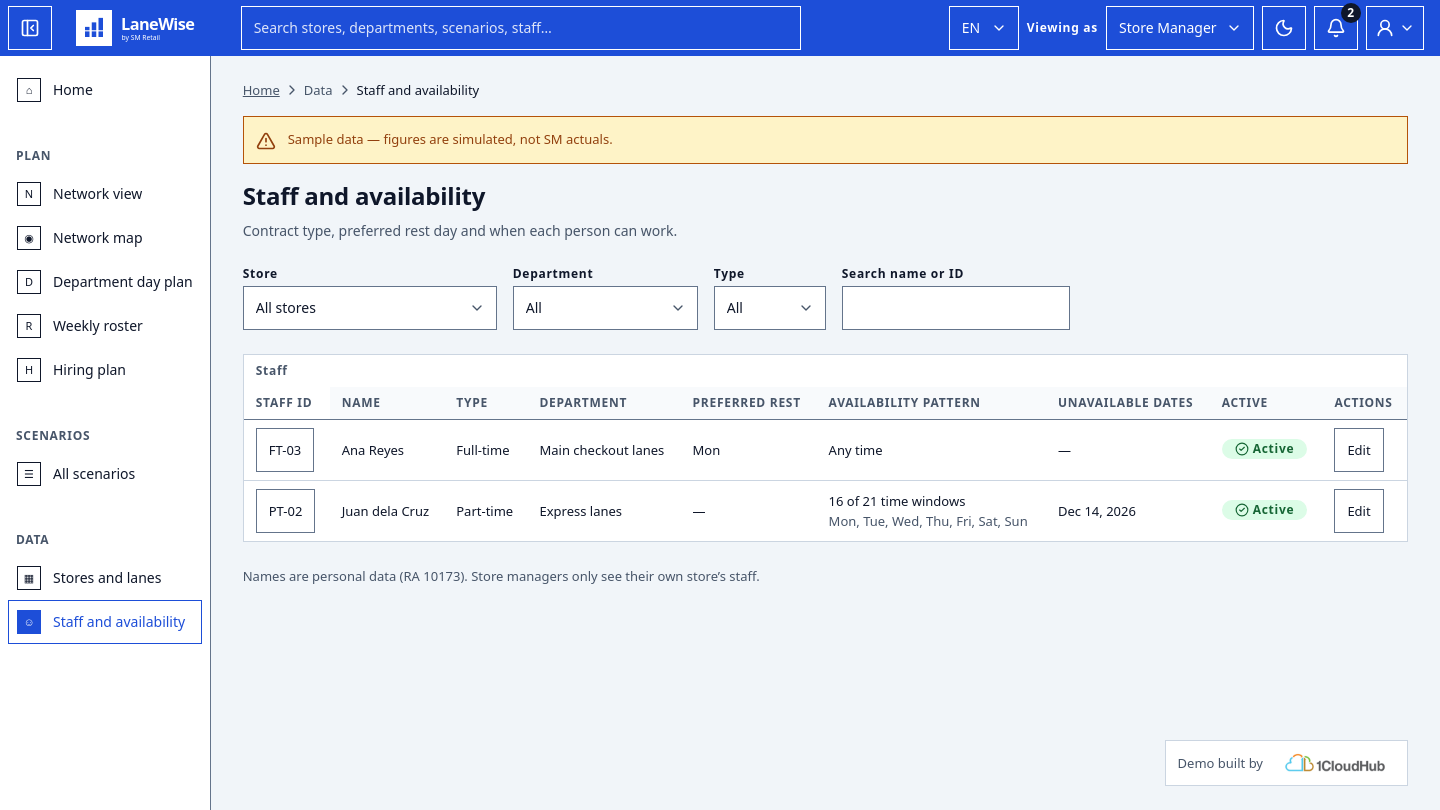
Scenario: SCR-053 Staff and availability › the Store Manager sees only their store, edits a record but cannot add staff
Check: the button named "PT-02, availability for Juan dela Cruz" is shown, box [256,489,315,533]
Click the button with aria-label "Edit Ana Reyes" at (1359, 450), box [1334,428,1384,472]
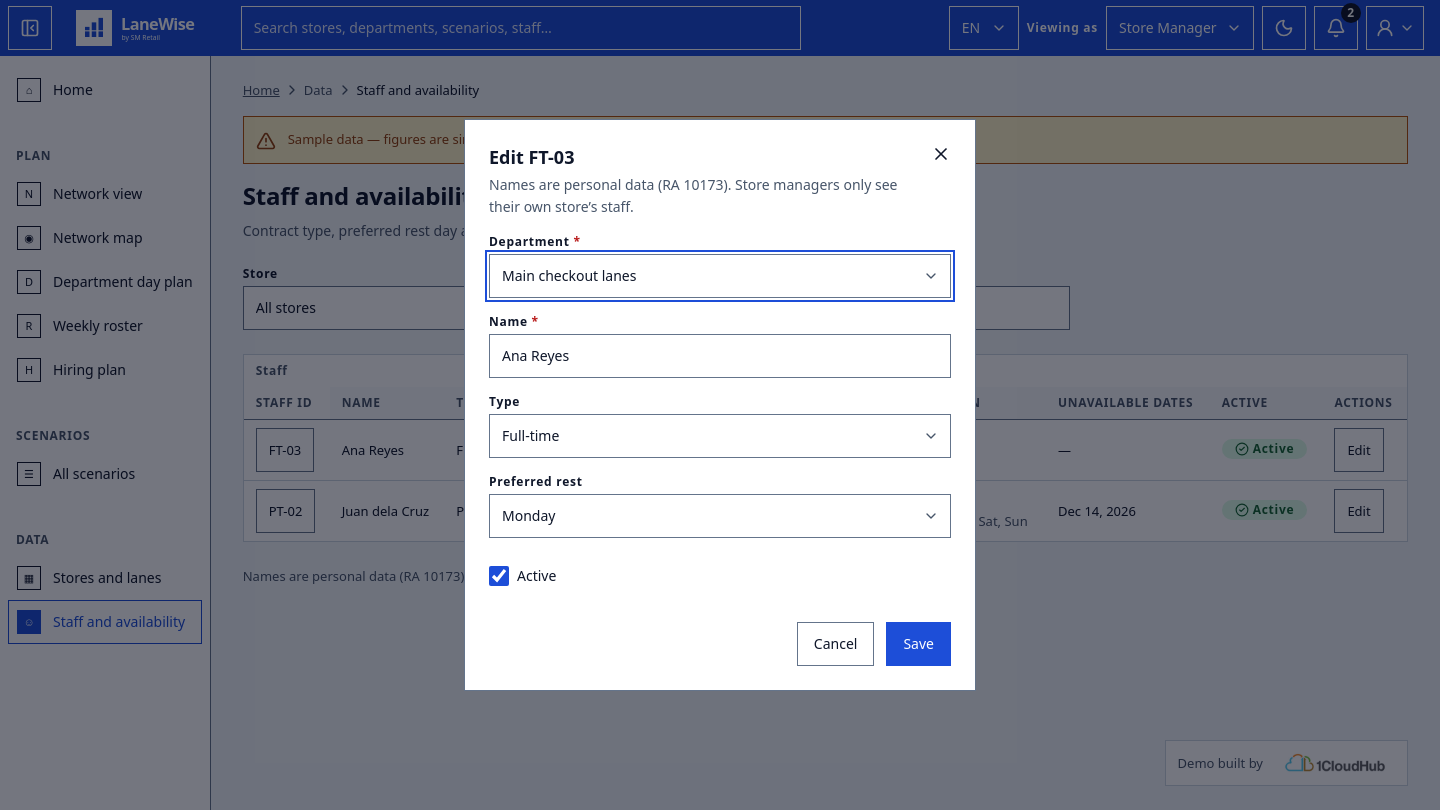
Select "Friday" in the dropdown labelled "Preferred rest" at (720, 516), box [489,494,951,538]
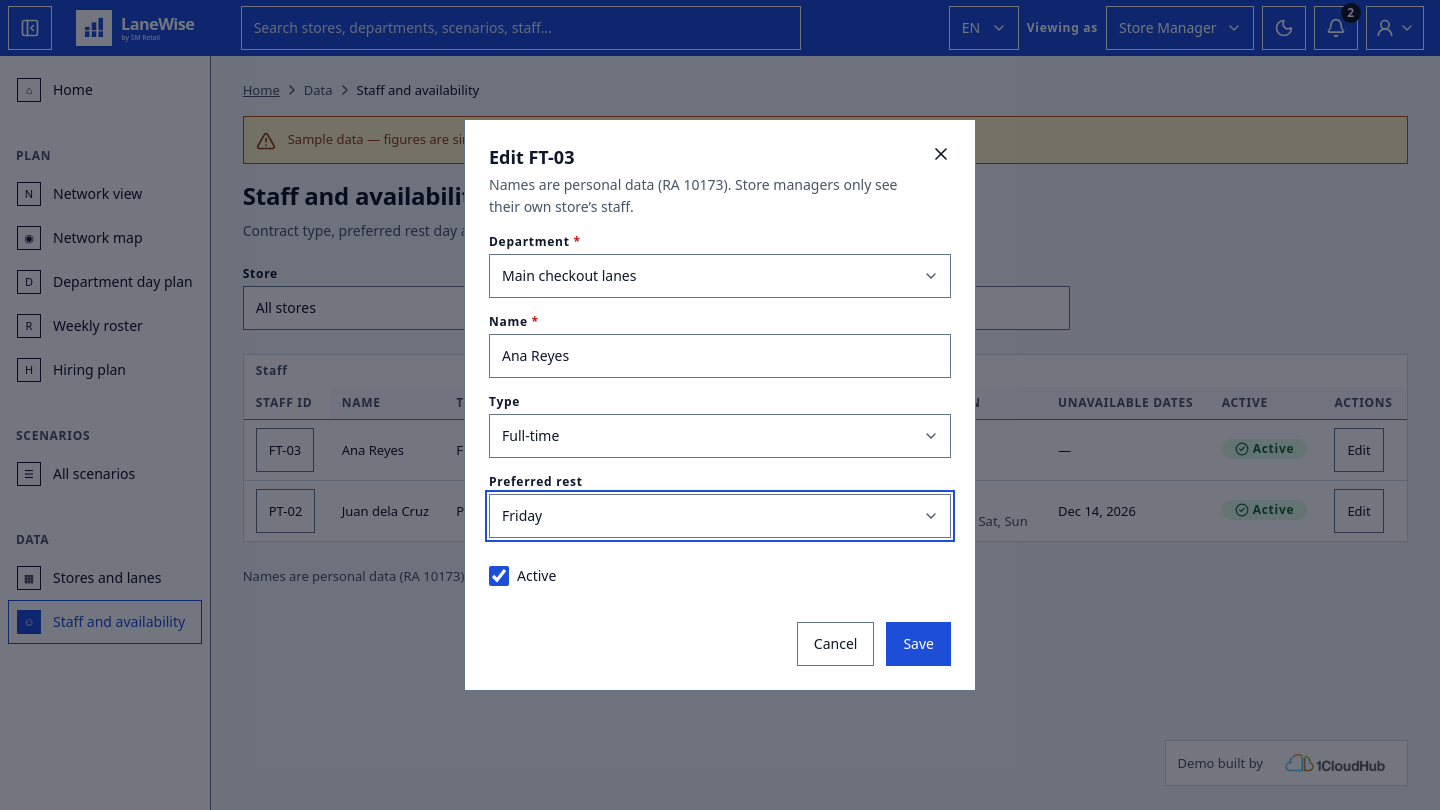
Click the button "Save" at (919, 644), box [886,622,951,666]
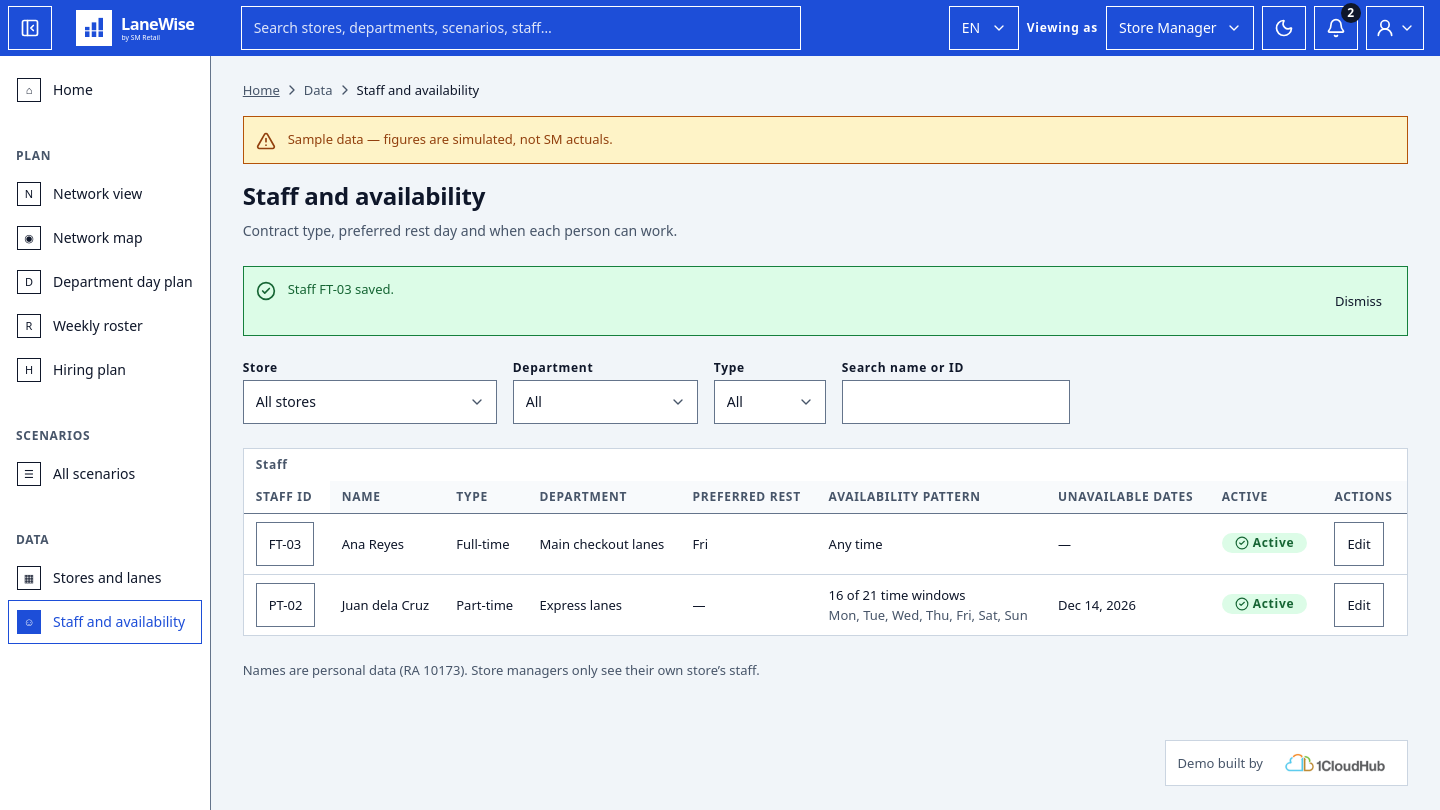
Check: the text "Staff FT-03 saved." is shown, box [288,280,394,298]
Check: the text "Fri" is shown, box [680,514,817,574]
